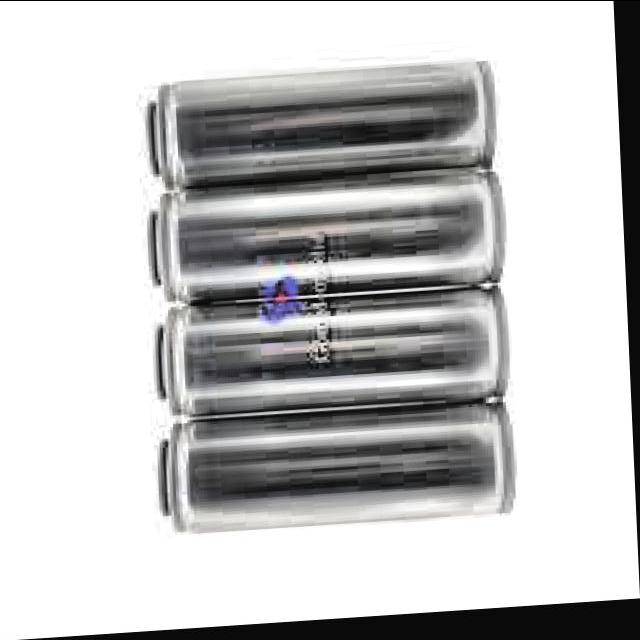litter: (138, 170, 508, 314), (147, 402, 518, 544), (145, 287, 512, 427), (145, 56, 508, 196)
